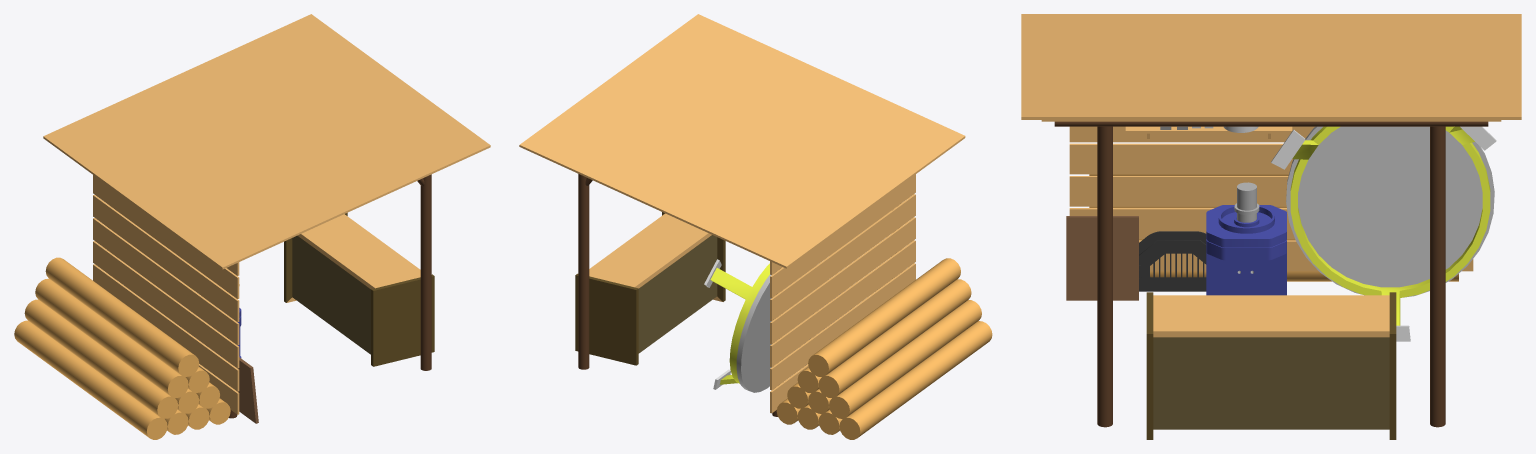
File: Bilding_shop.fbx
The picture shows the model from 3 angles, left to right: view 1: azimuth 30°, elevation 25°; view 2: azimuth 150°, elevation 25°; view 3: azimuth 270°, elevation 25°; orthographic projection. The views are drawn at different scales.
Parts seen in each view (by area): view 1: Bilding_shop_LOD0; view 2: Bilding_shop_LOD0; view 3: Bilding_shop_LOD0.
Part boxes in pixels (x1=…): Bilding_shop_LOD0: x1=14, y1=14, x2=490, y2=439; Bilding_shop_LOD0: x1=519, y1=14, x2=992, y2=439; Bilding_shop_LOD0: x1=1021, y1=14, x2=1521, y2=439.
Size of what is drawn, in the model's own units: 351 by 341 by 249.
